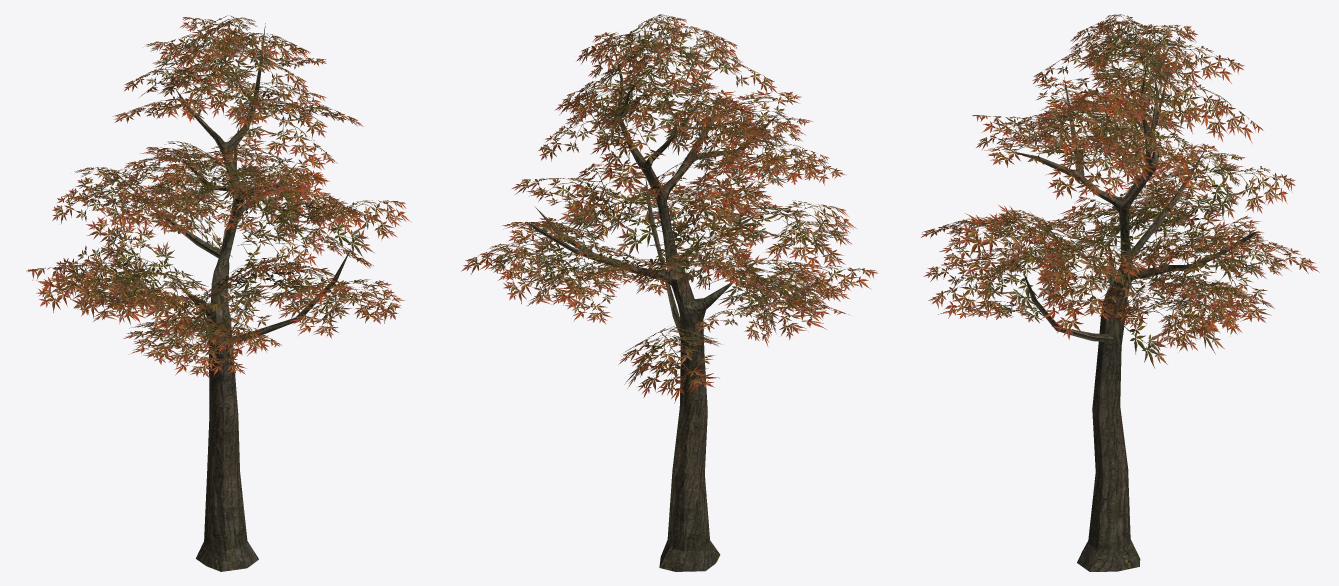
File: bg_anh_tree_mapletree01a_sm_ysi.FBX
The picture shows the model from 3 angles, left to right: view 1: azimuth 30°, elevation 25°; view 2: azimuth 150°, elevation 25°; view 3: azimuth 270°, elevation 25°; orthographic projection. The views are drawn at different scales.
Parts seen in each view (by area): view 1: bg_anh_tree_mapletree01a_sm_ysi; view 2: bg_anh_tree_mapletree01a_sm_ysi; view 3: bg_anh_tree_mapletree01a_sm_ysi.
Part boxes in pixels (x1,y1,x2,y2): bg_anh_tree_mapletree01a_sm_ysi: (26,15,411,571); bg_anh_tree_mapletree01a_sm_ysi: (461,14,877,571); bg_anh_tree_mapletree01a_sm_ysi: (921,14,1319,571).
Size of the model in its own units: 408 by 570 by 386.
